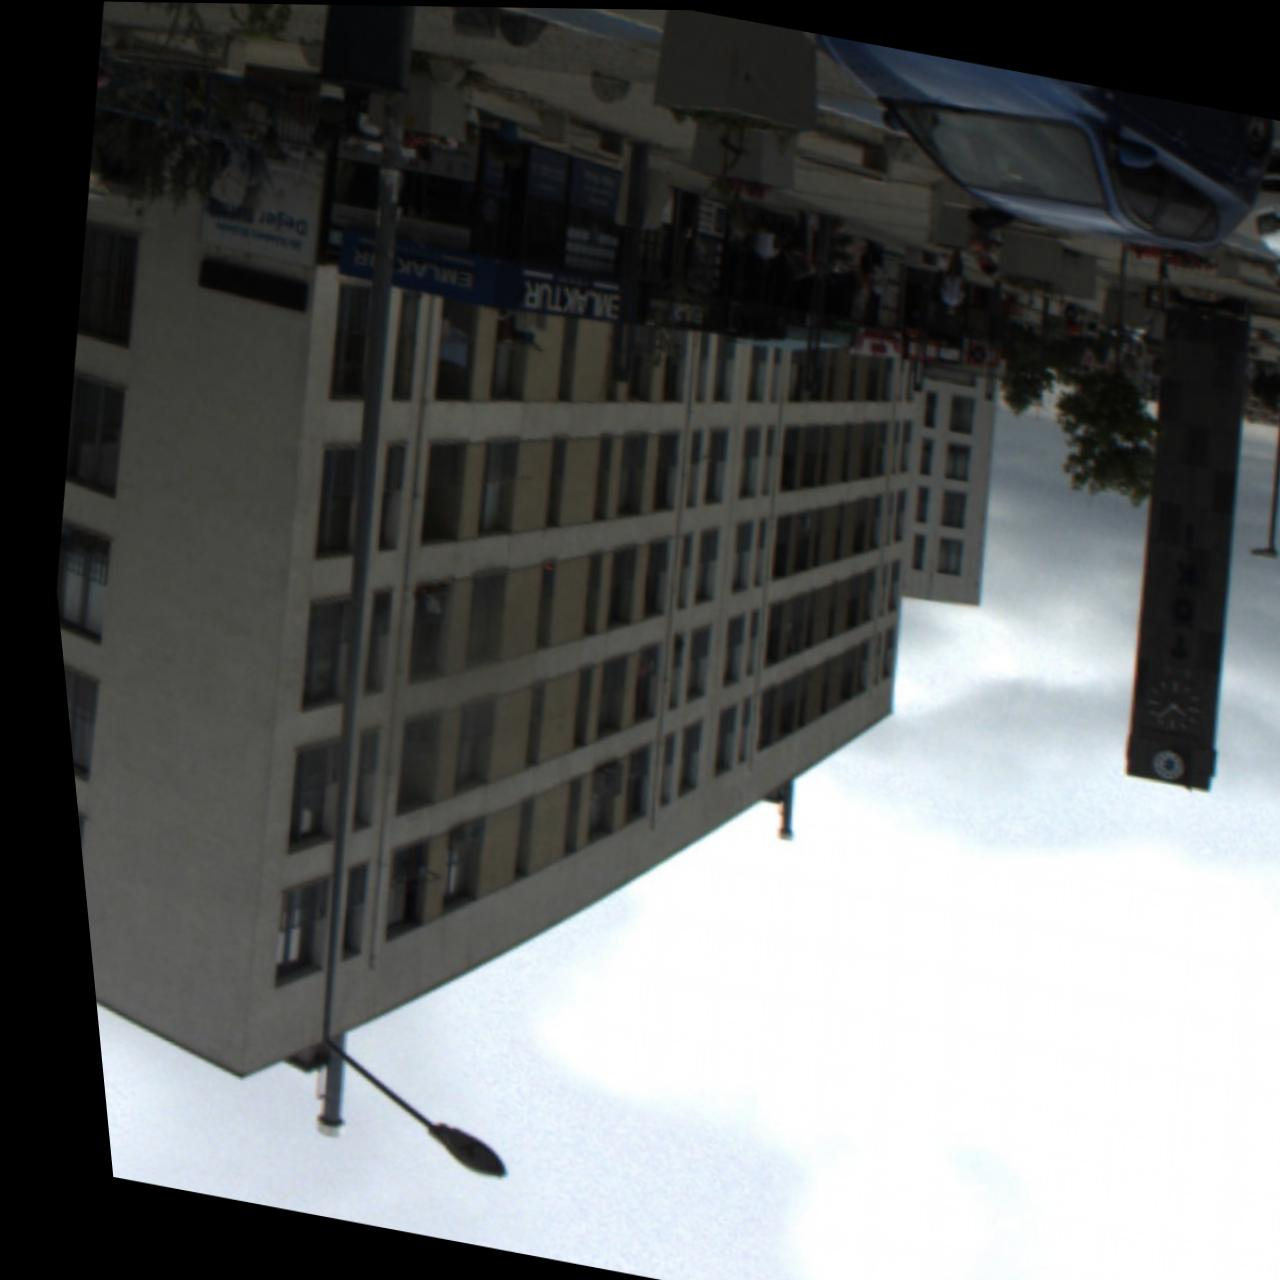SignStore: (332, 226, 618, 321), (628, 275, 720, 331), (844, 319, 894, 354), (959, 334, 995, 365), (896, 328, 932, 358), (928, 336, 955, 360)
